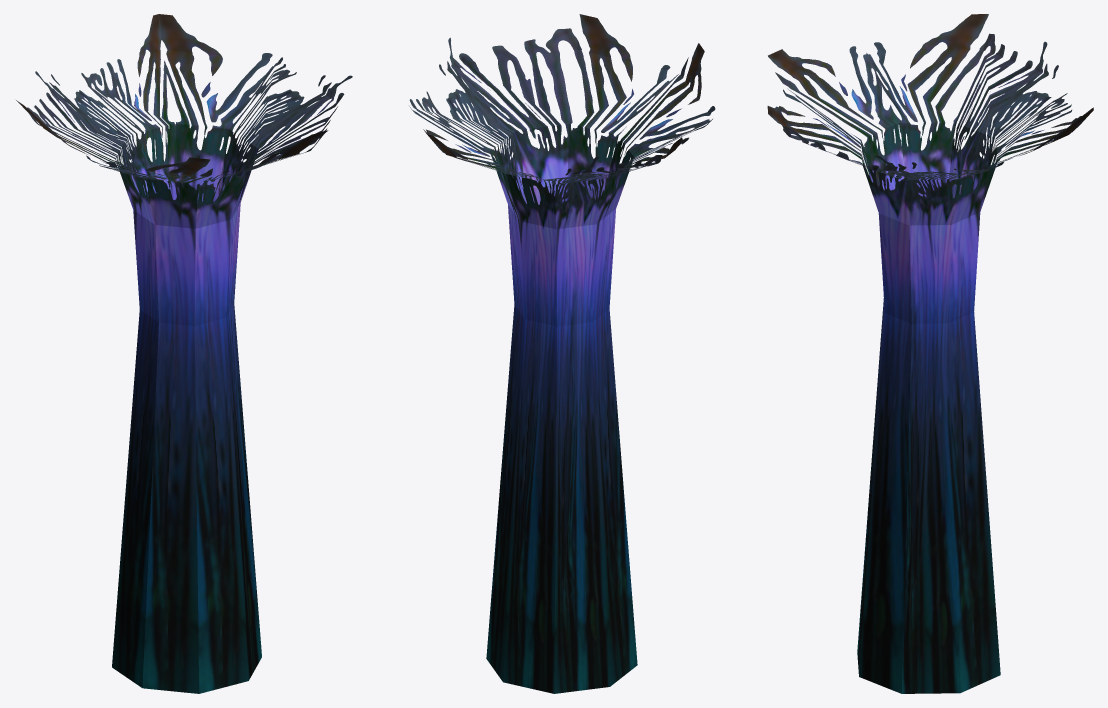
The model's file is H1_BluePlant_Corona2.gltf.
3 views of the same model, side by side, from view 1: azimuth 30°, elevation 25°; view 2: azimuth 150°, elevation 25°; view 3: azimuth 270°, elevation 25° (orthographic).
Parts seen in each view (by area): view 1: H1_BluePlant_Corona2; view 2: H1_BluePlant_Corona2; view 3: H1_BluePlant_Corona2.
Part boxes in pixels (x1,y1,x2,y2): H1_BluePlant_Corona2: (16,14,352,693); H1_BluePlant_Corona2: (409,14,715,693); H1_BluePlant_Corona2: (767,14,1093,693).
Bounding box in the file's own units: 3.14 × 6.1 × 3.14.
1 material, 1 textured.
